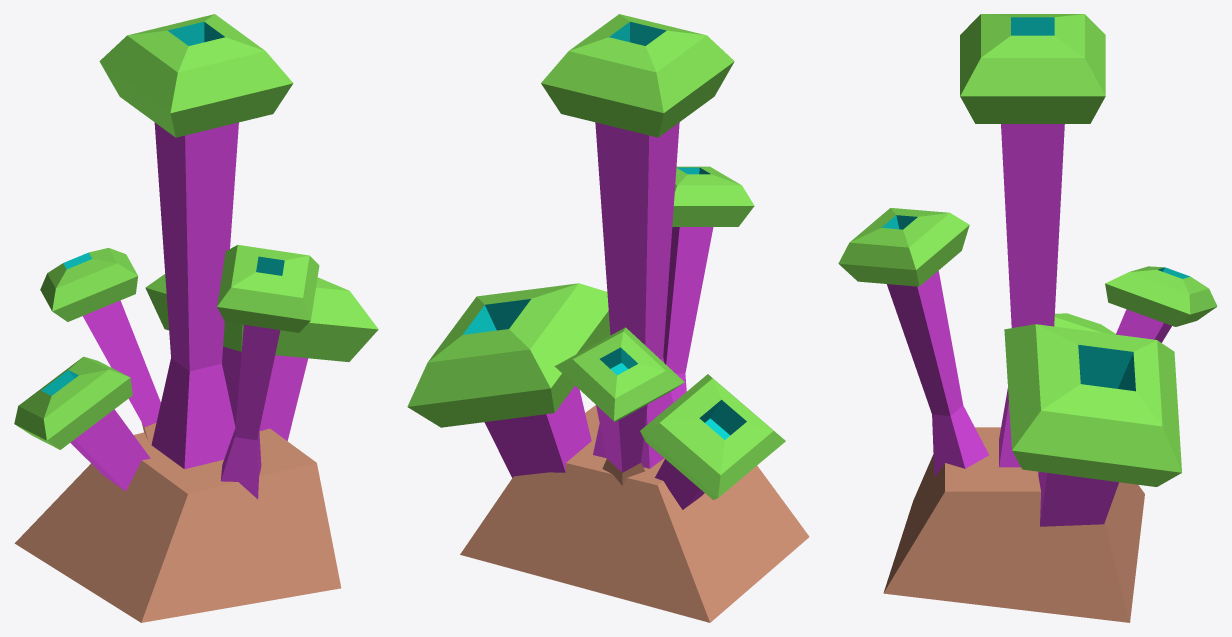
The model's file is coral_3.fbx.
The picture shows the model from 3 angles, left to right: view 1: azimuth 30°, elevation 25°; view 2: azimuth 150°, elevation 25°; view 3: azimuth 270°, elevation 25°; orthographic projection. The views are drawn at different scales.
Visible parts, largest first — view 1: Cube; view 2: Cube; view 3: Cube.
Part boxes in pixels (x1,y1,x2,y2): Cube: [14, 14, 378, 622]; Cube: [407, 14, 809, 622]; Cube: [838, 14, 1217, 622].
Size of the model in its own units: 218 by 337 by 218.
